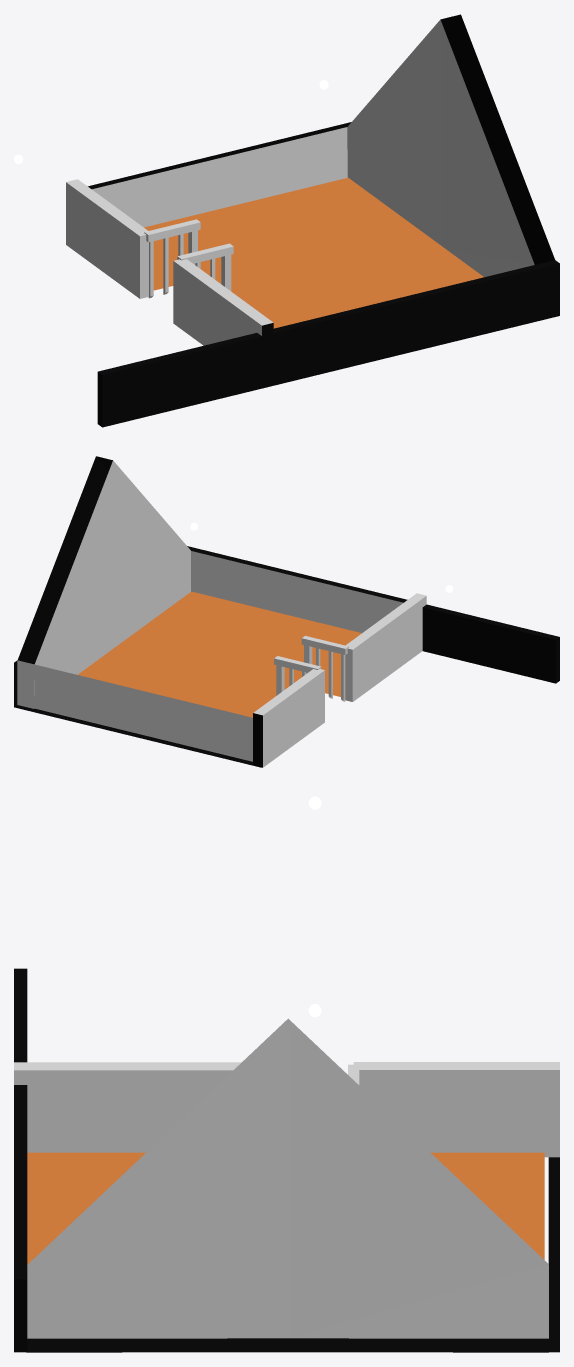
File: vallingby3_s_split_3.glb
3 renders of one model, top to bottom at view 1: azimuth 30°, elevation 25°; view 2: azimuth 150°, elevation 25°; view 3: azimuth 270°, elevation 25°, orthographic. The views are drawn at different scales.
Parts seen in each view (by area): view 1: Wall.007, Wooden floor.002; view 2: Wall.007, Wooden floor.002; view 3: Wall.007, Wooden floor.002.
Boxes of the visible parts, bbox=[...] form: Wall.007: bbox=[66, 14, 559, 427]; Wooden floor.002: bbox=[144, 177, 483, 328]; Wall.007: bbox=[14, 456, 559, 767]; Wooden floor.002: bbox=[78, 591, 361, 717]; Wall.007: bbox=[14, 968, 559, 1352]; Wooden floor.002: bbox=[27, 1152, 544, 1264].
Bounding box in the file's own units: 5.5 × 2.67 × 4.08.
